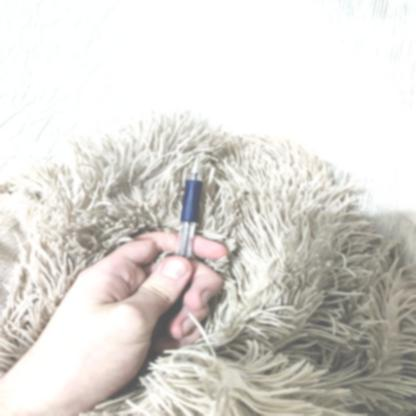Pen: (141, 153, 218, 325)
